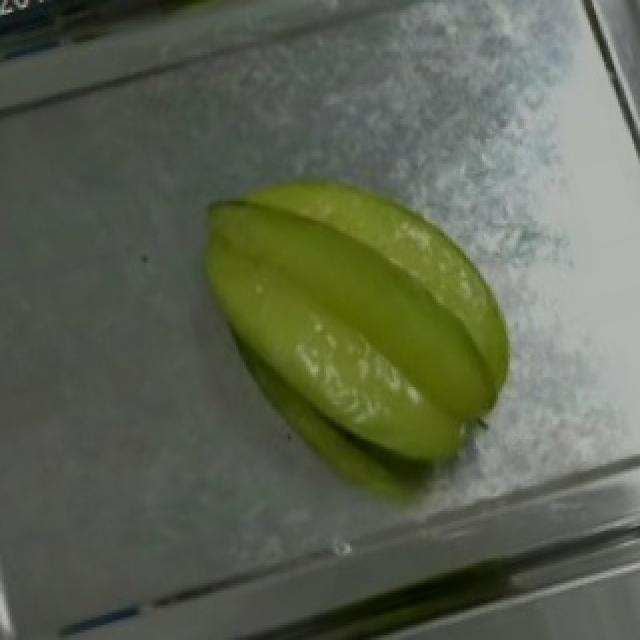fruit: (154, 129, 568, 509)
